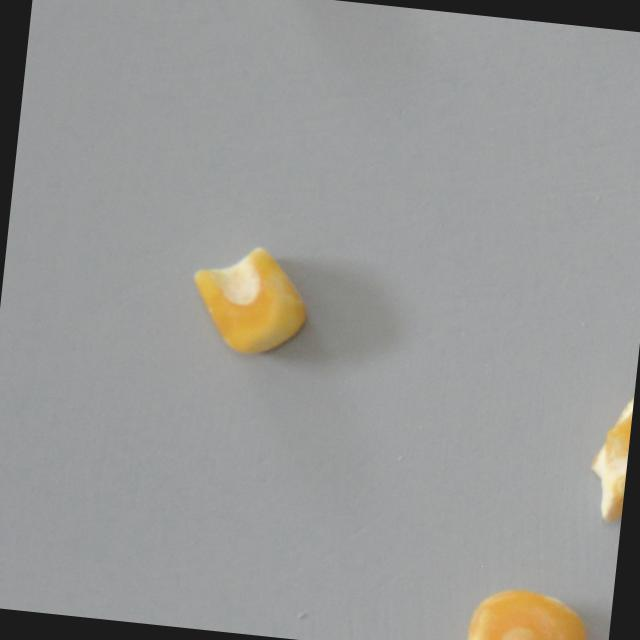no_canjicado: (187, 237, 317, 363)
pelicula: (466, 582, 595, 640), (582, 388, 634, 522)
